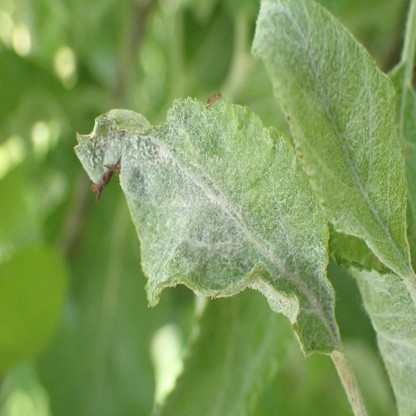powder: (74, 89, 344, 356), (252, 1, 410, 276), (351, 271, 416, 415)
